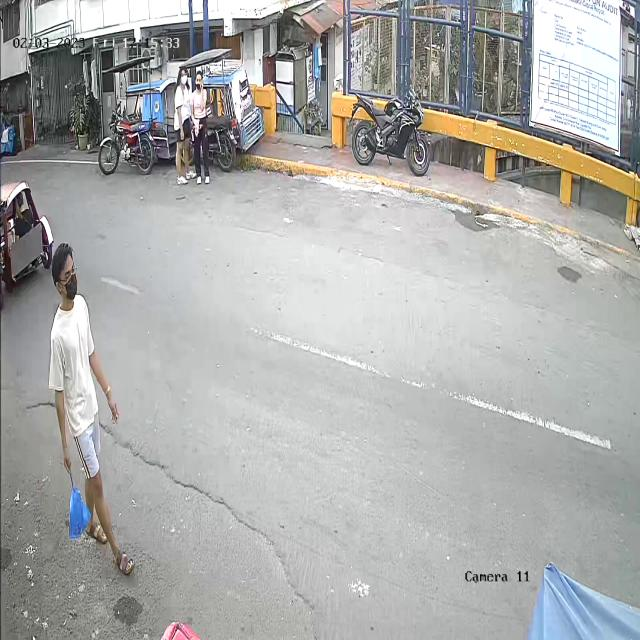human: (49, 243, 135, 576)
trash: (62, 455, 93, 552)
